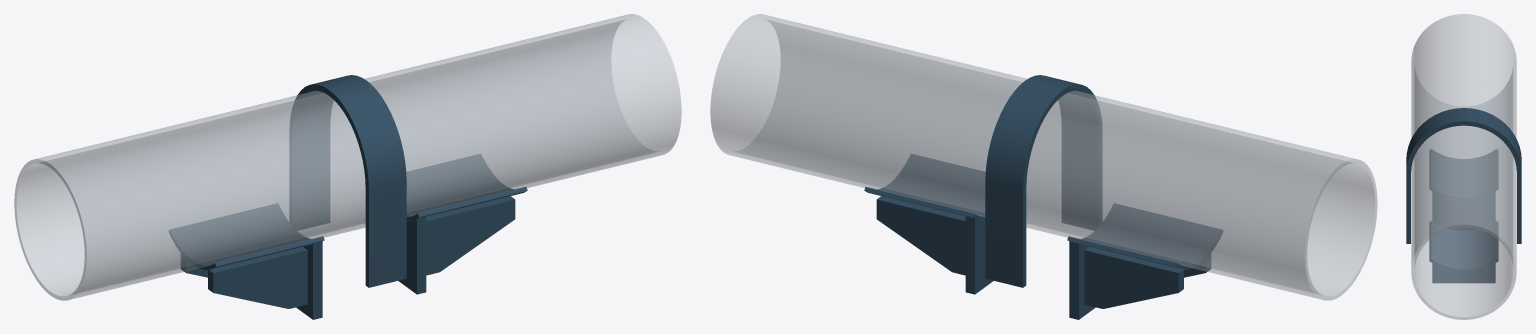
The model's file is TS-669.00.00-01-opora-dn133-ris1.glb.
3 renders of one model, left to right at view 1: azimuth 30°, elevation 25°; view 2: azimuth 150°, elevation 25°; view 3: azimuth 270°, elevation 25°, orthographic. The views are drawn at different scales.
Visible parts, largest first — view 1: truba, homut_9, upor_8, upor_4, upor_6, upor_2, upor_1, upor_5; view 2: truba, homut_9, upor_8, upor_4, upor_7, upor_3, upor_1, upor_5; view 3: truba, homut_9, upor_4, upor_8, upor_5, upor_1, upor_2, upor_3.
Part boxes in pixels (<box>): truba: <box>14,14,681,300</box>; homut_9: <box>289,75,406,287</box>; upor_8: <box>169,203,324,269</box>; upor_4: <box>406,154,527,220</box>; upor_6: <box>208,247,307,308</box>; upor_2: <box>426,196,515,275</box>; upor_1: <box>398,216,426,294</box>; upor_5: <box>296,241,322,319</box>; truba: <box>710,14,1377,300</box>; homut_9: <box>985,75,1102,287</box>; upor_8: <box>1067,203,1222,269</box>; upor_4: <box>864,154,985,220</box>; upor_7: <box>1084,247,1183,308</box>; upor_3: <box>876,196,965,275</box>; upor_1: <box>965,216,993,294</box>; upor_5: <box>1069,241,1095,319</box>; truba: <box>1411,14,1516,319</box>; homut_9: <box>1406,108,1521,243</box>; upor_4: <box>1429,221,1498,272</box>; upor_8: <box>1429,149,1498,199</box>; upor_5: <box>1432,192,1495,230</box>; upor_1: <box>1432,263,1495,283</box>; upor_2: <box>1440,268,1448,283</box>; upor_3: <box>1479,268,1487,283</box>.
Size of the model in its own units: 630 by 207 by 146.
